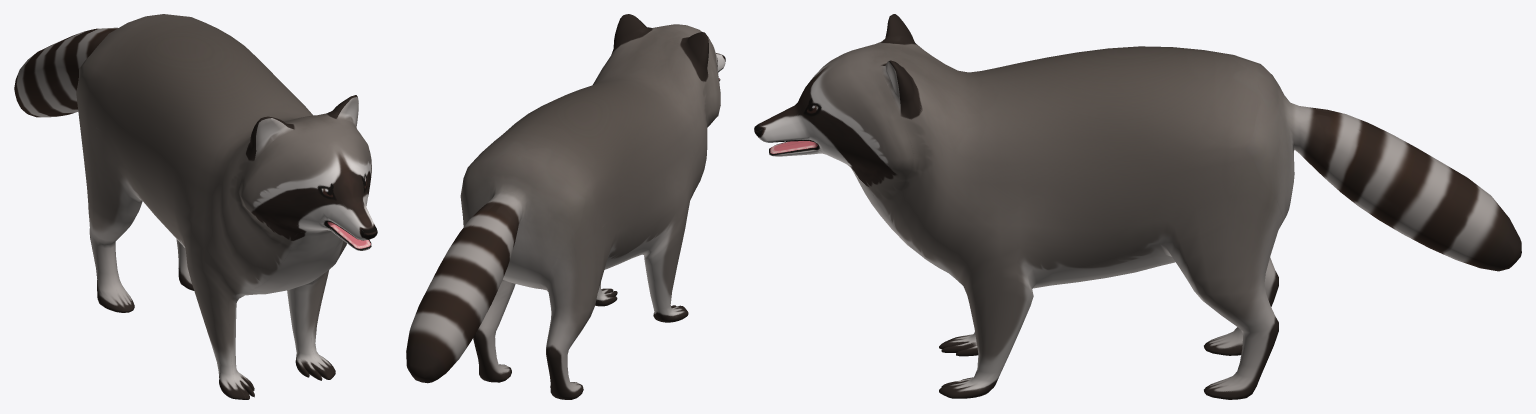
The model's file is raccoon_model.fbx.
3 renders of one model, left to right at view 1: azimuth 30°, elevation 25°; view 2: azimuth 150°, elevation 25°; view 3: azimuth 270°, elevation 25°, orthographic. The views are drawn at different scales.
Visible parts, largest first — view 1: raccoon_model; view 2: raccoon_model; view 3: raccoon_model.
Boxes of the visible parts, x1,y1,x2,y2 form: raccoon_model: [14, 14, 377, 399]; raccoon_model: [406, 14, 725, 399]; raccoon_model: [754, 14, 1521, 399].
Bounding box in the file's own units: 28.02 × 56.37 × 118.
